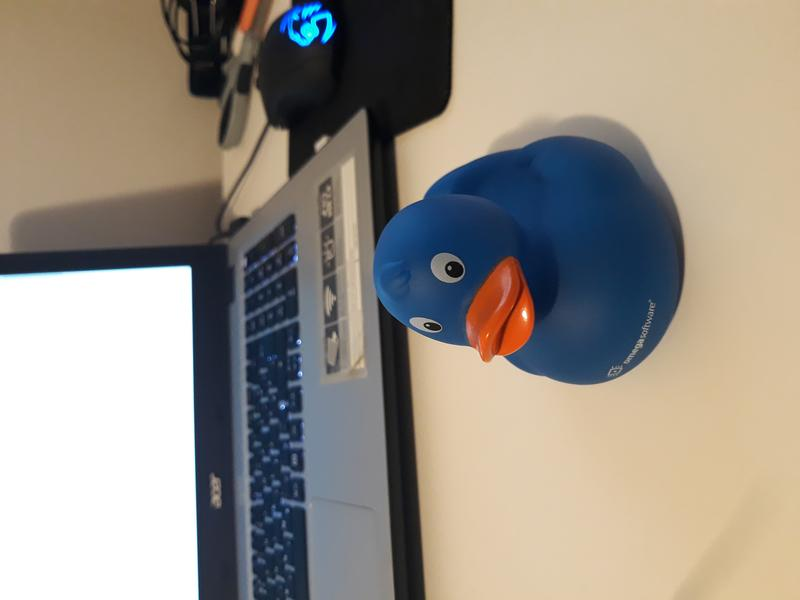plava_patkica: (360, 114, 685, 398)
